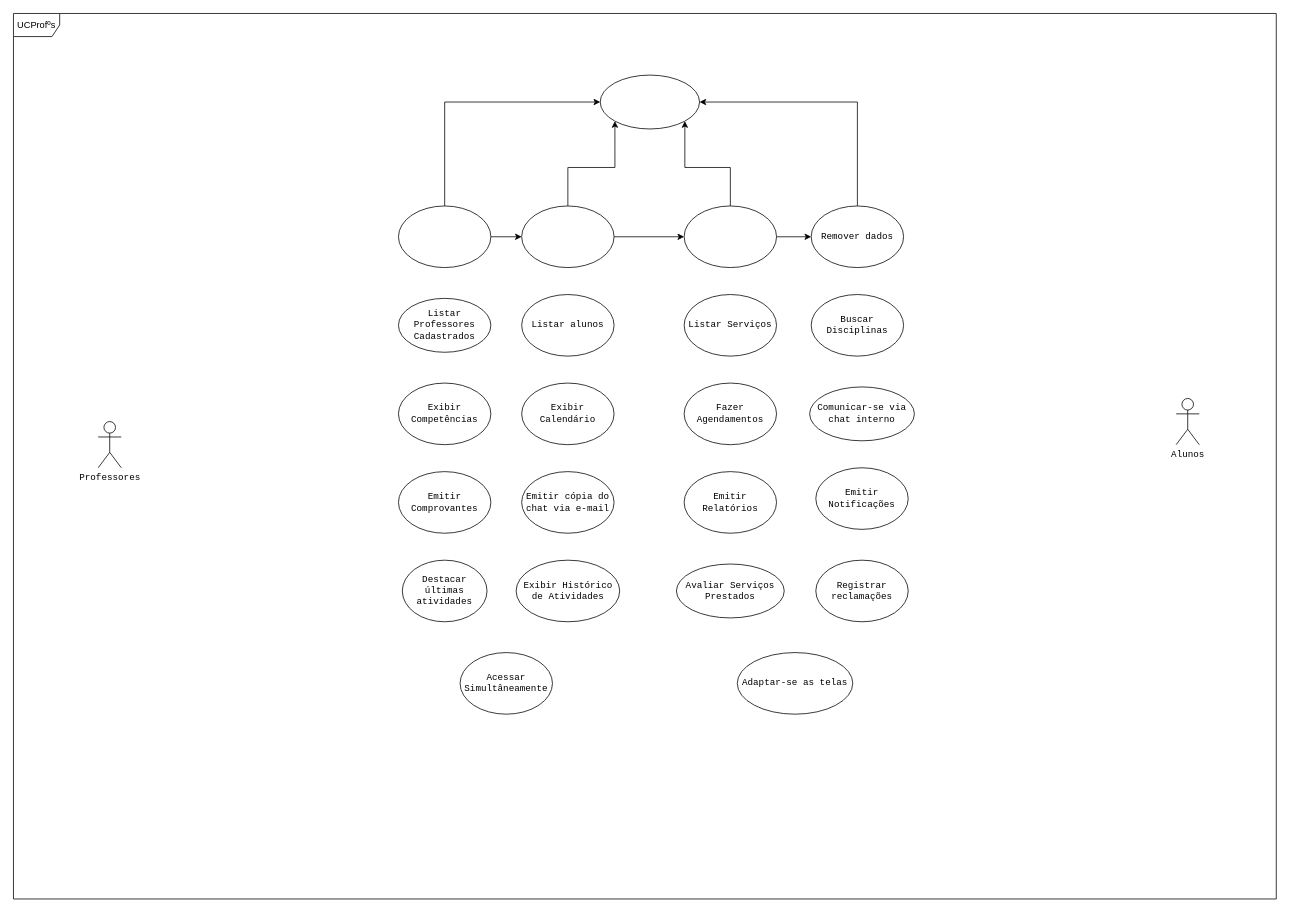
Some shapes in this 1290 by 912 pixel diagram are drawn without their labels. Each missing label, with the box of its shape:
Atualizar dados: (683, 205, 777, 268)
Criar dados: (398, 205, 491, 268)
Fazer Cadastro: (599, 74, 700, 129)
Ler dados: (521, 205, 614, 268)
